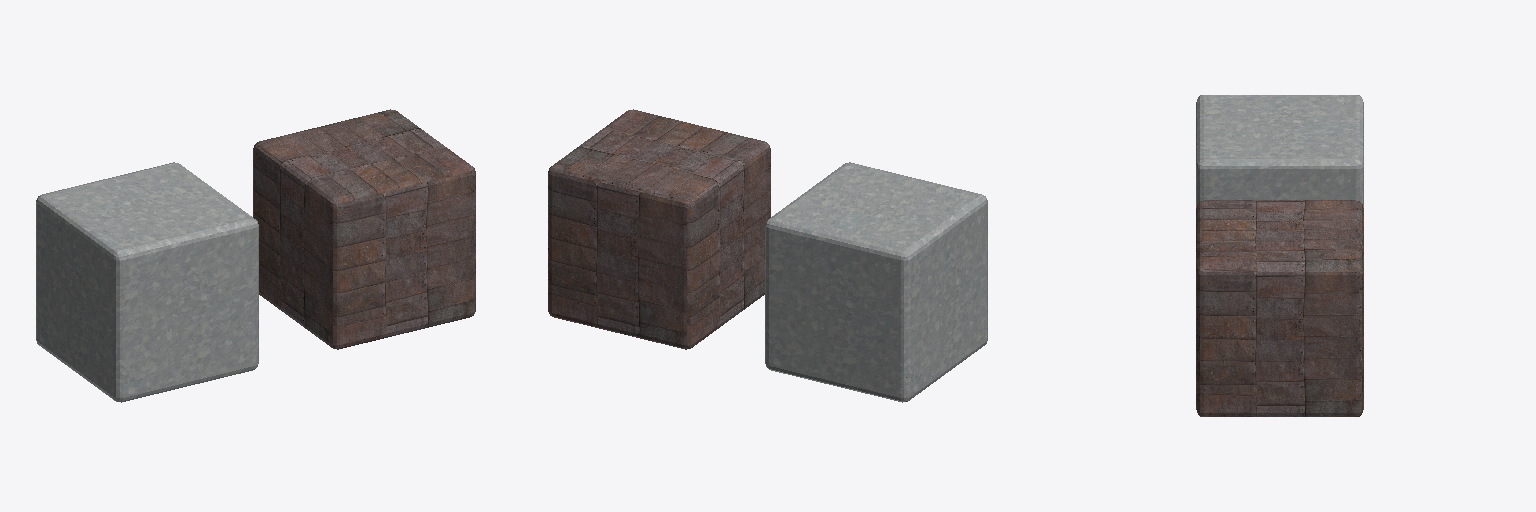
The picture shows the model from 3 angles: view 1: azimuth 30°, elevation 25°; view 2: azimuth 150°, elevation 25°; view 3: azimuth 270°, elevation 25°; orthographic projection.
Visible parts, largest first — view 1: Cube, Cube.001; view 2: Cube, Cube.001; view 3: Cube.001, Cube.
Boxes of the visible parts, x1=… form: Cube: x1=36, y1=162, x2=258, y2=402; Cube.001: x1=253, y1=109, x2=475, y2=349; Cube: x1=765, y1=162, x2=987, y2=402; Cube.001: x1=548, y1=109, x2=770, y2=349; Cube.001: x1=1196, y1=200, x2=1363, y2=416; Cube: x1=1196, y1=95, x2=1363, y2=207.
Size of the model in its own units: 5 by 2 by 2.
Materials: 2 (2 with a texture image).